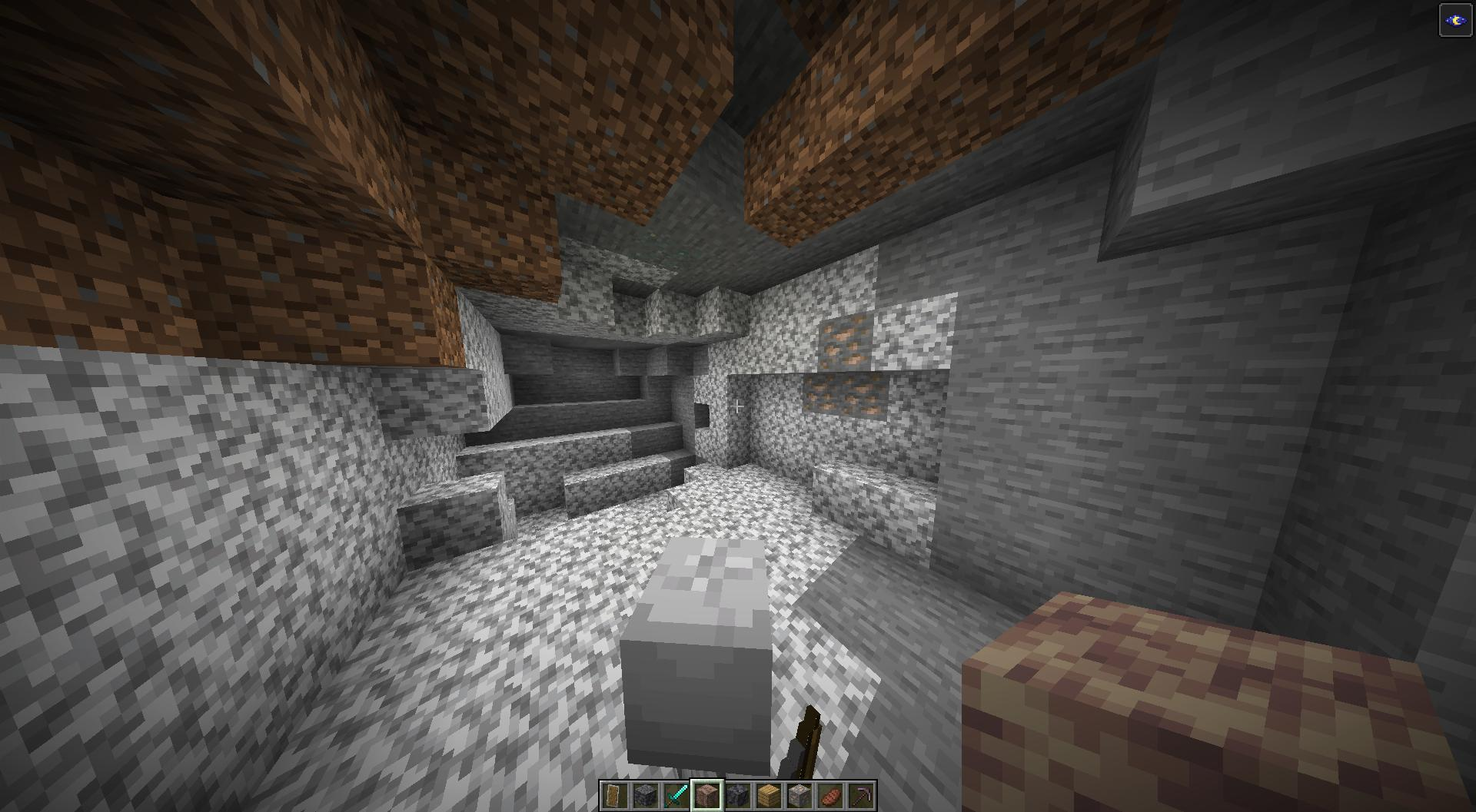iron ore: (818, 314, 873, 364), (841, 369, 885, 425), (807, 373, 840, 415)
